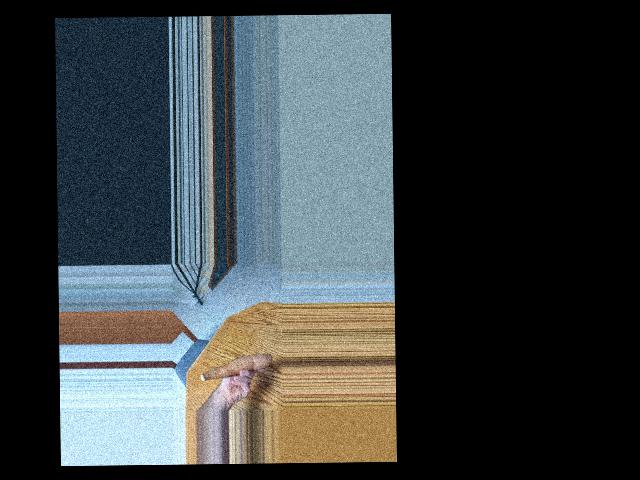sweet_potato: (199, 350, 271, 384)
